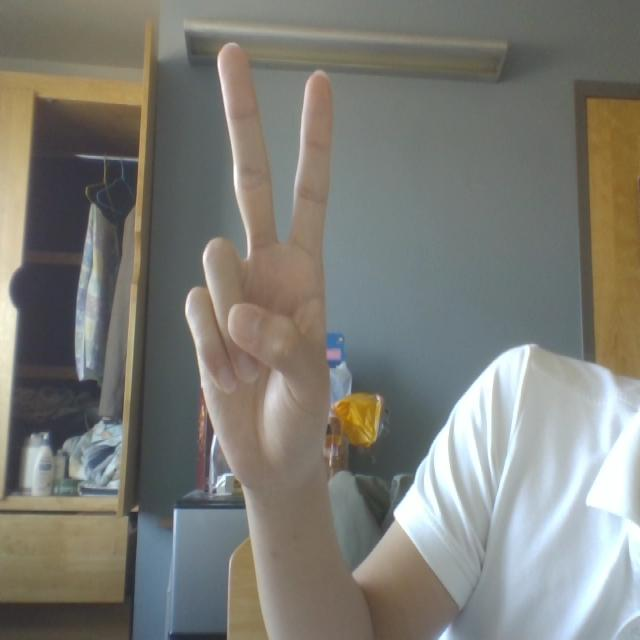V: (174, 21, 396, 539)
